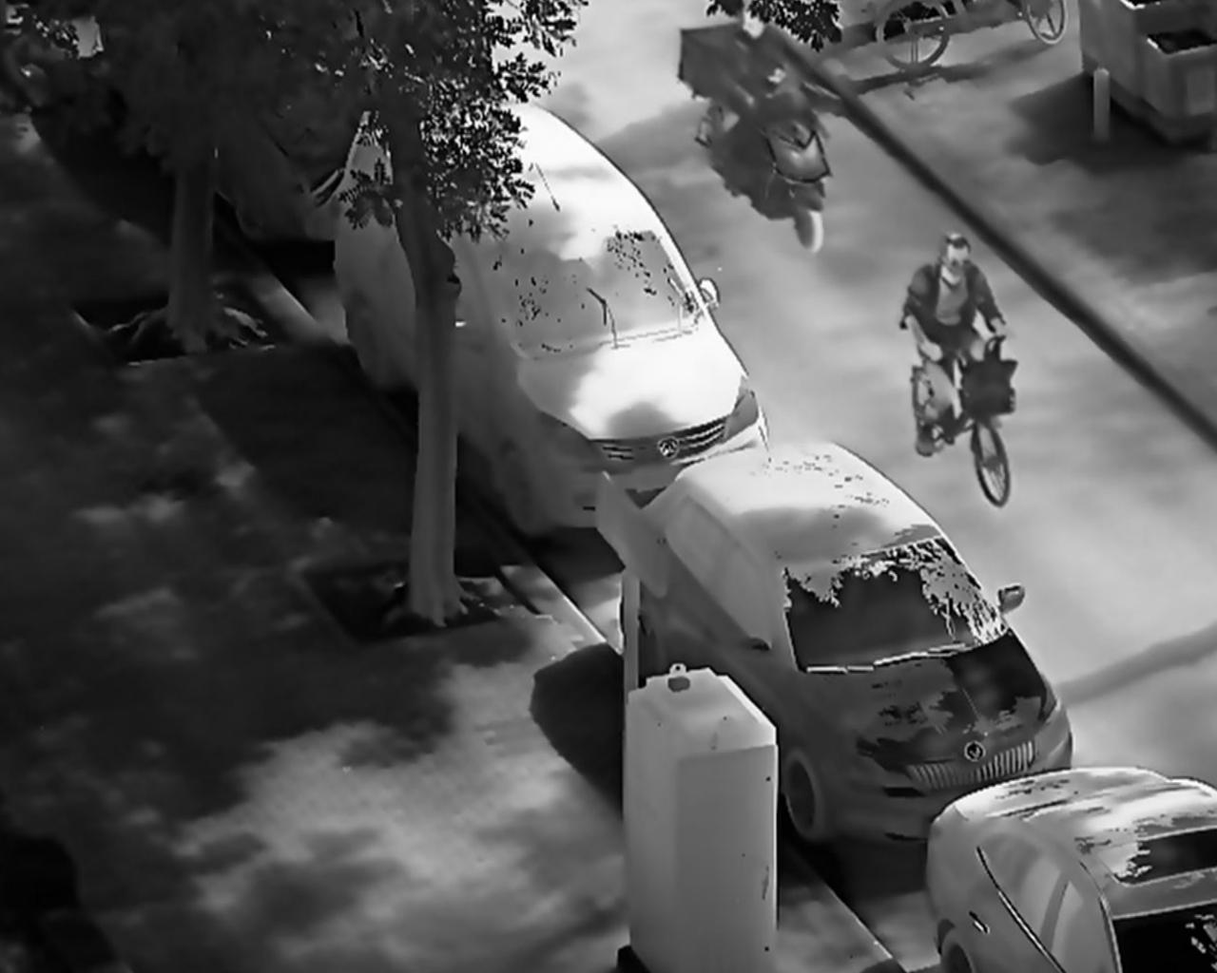person: (895, 234, 1013, 460), (699, 6, 825, 164)
